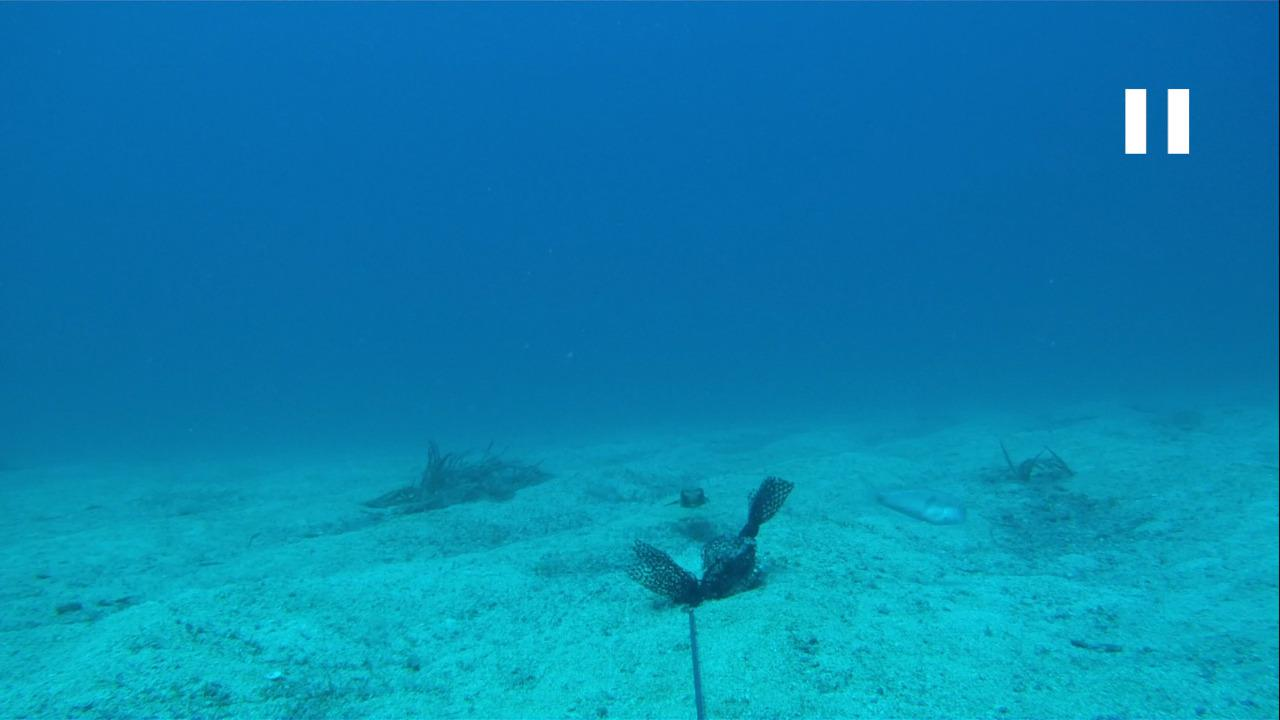dactylopterus: (643, 475, 714, 519)
raor: (864, 482, 967, 529)
